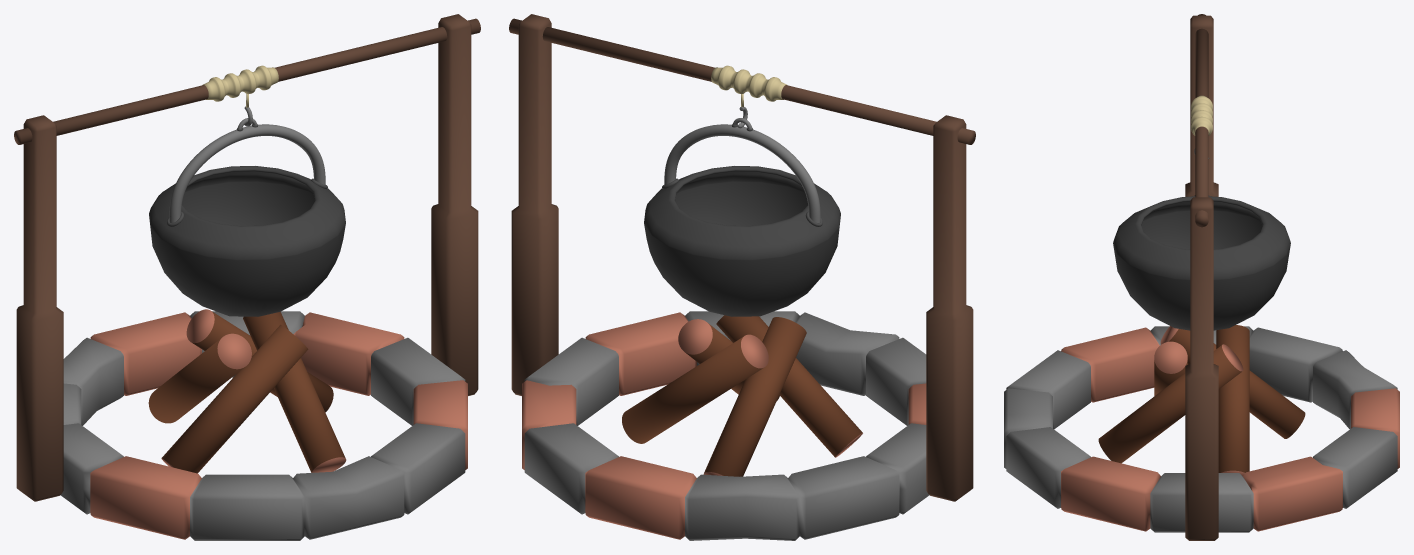
The model's file is fireplace.glb.
The picture shows the model from 3 angles, left to right: view 1: azimuth 30°, elevation 25°; view 2: azimuth 150°, elevation 25°; view 3: azimuth 270°, elevation 25°; orthographic projection. The views are drawn at different scales.
Visible parts, largest first — view 1: Fireplace; view 2: Fireplace; view 3: Fireplace.
Boxes of the visible parts, box(x1,y1,x2,y2) form: Fireplace: box(14, 14, 480, 540); Fireplace: box(509, 14, 975, 540); Fireplace: box(1004, 14, 1399, 540).
Bounding box in the file's own units: 2839 × 2240 × 2360.
